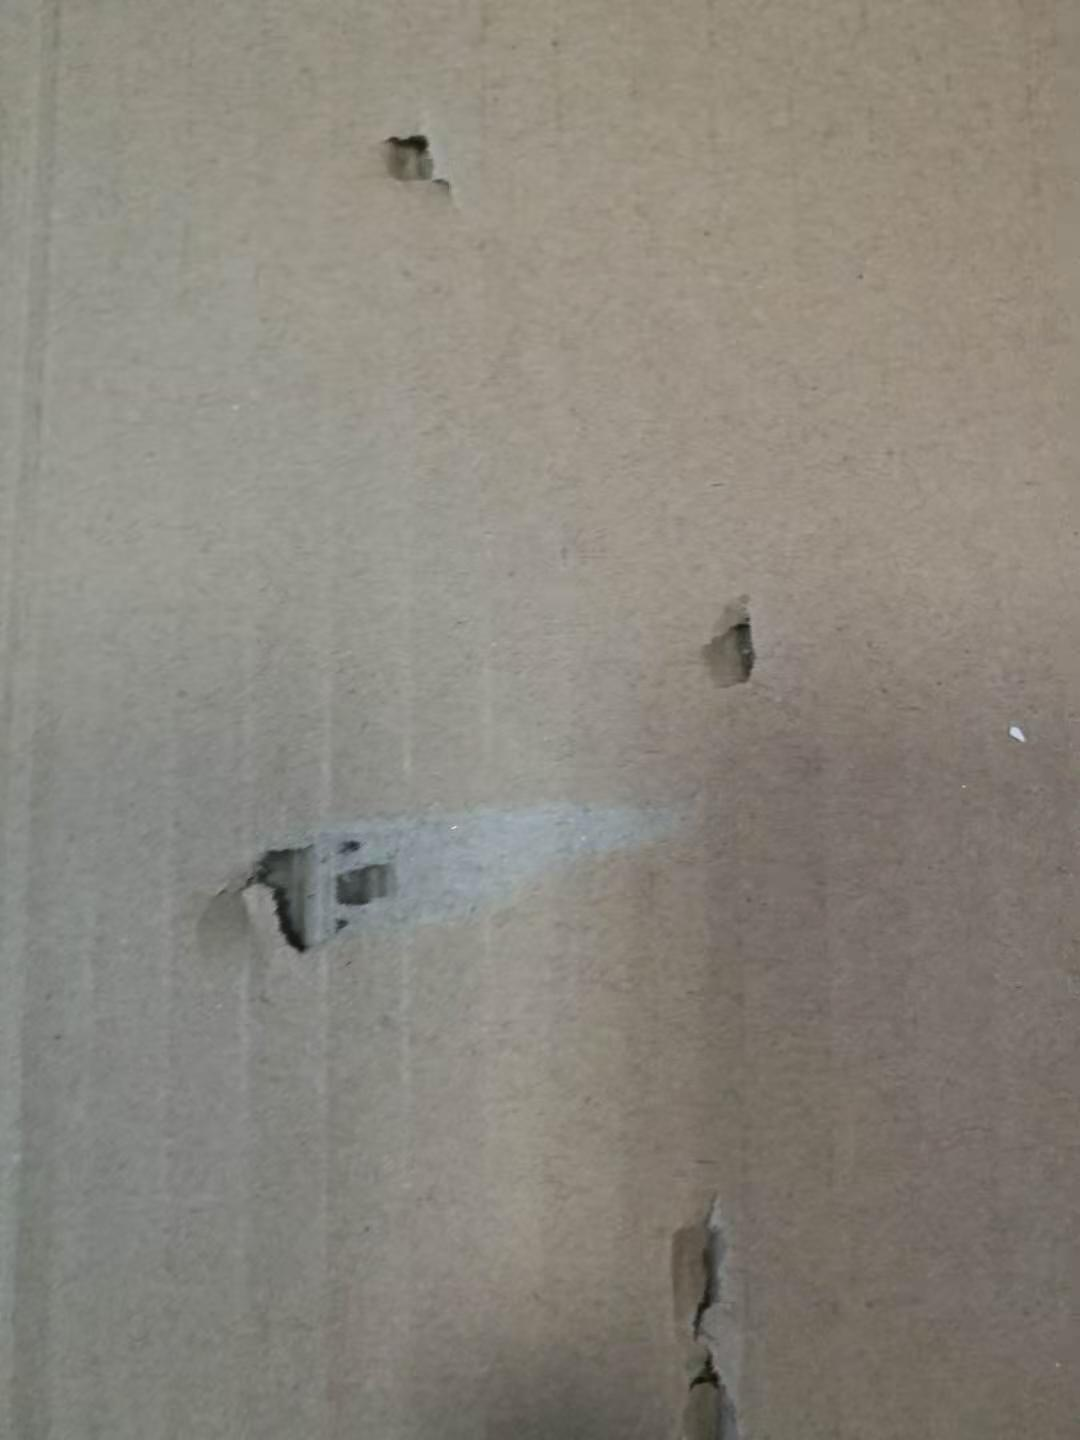defect: (143, 772, 732, 986), (611, 1164, 794, 1440), (358, 88, 479, 232), (677, 576, 785, 713)
